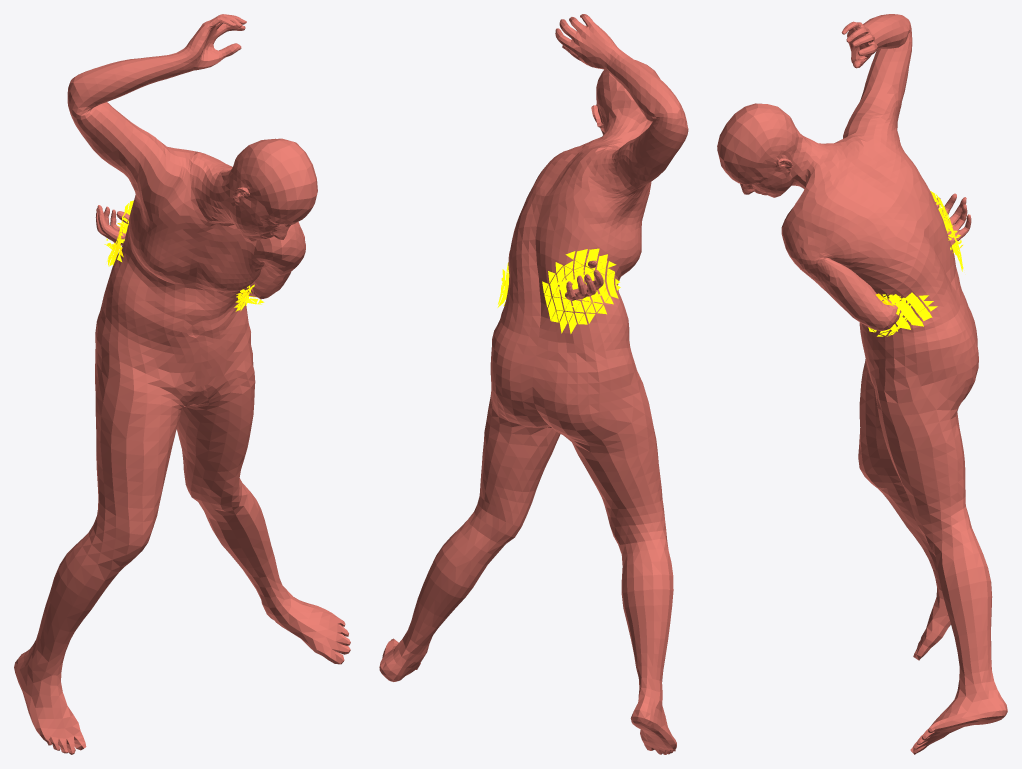
The model's file is hwc_collision_07.glb.
3 views of the same model, side by side, from view 1: azimuth 30°, elevation 25°; view 2: azimuth 150°, elevation 25°; view 3: azimuth 270°, elevation 25° (orthographic). The views are drawn at different scales.
Visible parts, largest first — view 1: hwc_collision, collision_marker; view 2: hwc_collision, collision_marker; view 3: hwc_collision, collision_marker.
Boxes of the visible parts, x1=… form: hwc_collision: x1=14, y1=14, x2=350, y2=754; collision_marker: x1=104, y1=200, x2=264, y2=311; hwc_collision: x1=379, y1=14, x2=688, y2=754; collision_marker: x1=497, y1=248, x2=620, y2=333; hwc_collision: x1=717, y1=14, x2=1007, y2=754; collision_marker: x1=868, y1=191, x2=963, y2=336.
Size of the model in its own units: 0.7862 by 1.8 by 0.6895.
